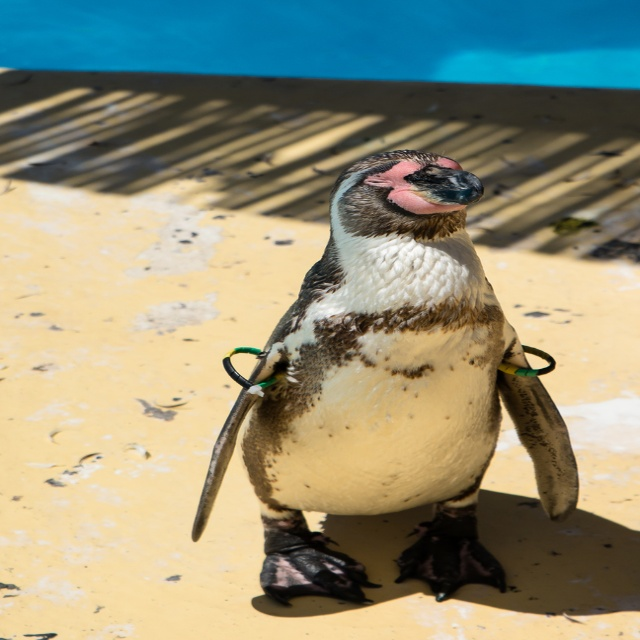Penguin: (192, 144, 598, 625)
